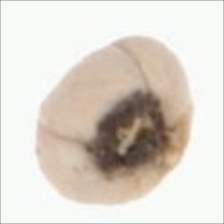L5: (34, 40, 151, 146), (85, 88, 176, 181)
L6: (29, 33, 197, 211)
